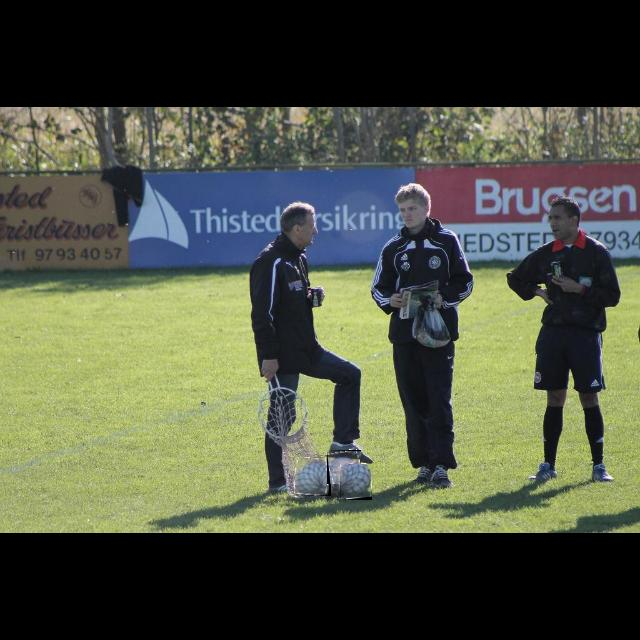Football: (295, 458, 331, 496), (327, 450, 361, 484), (340, 464, 372, 500)
